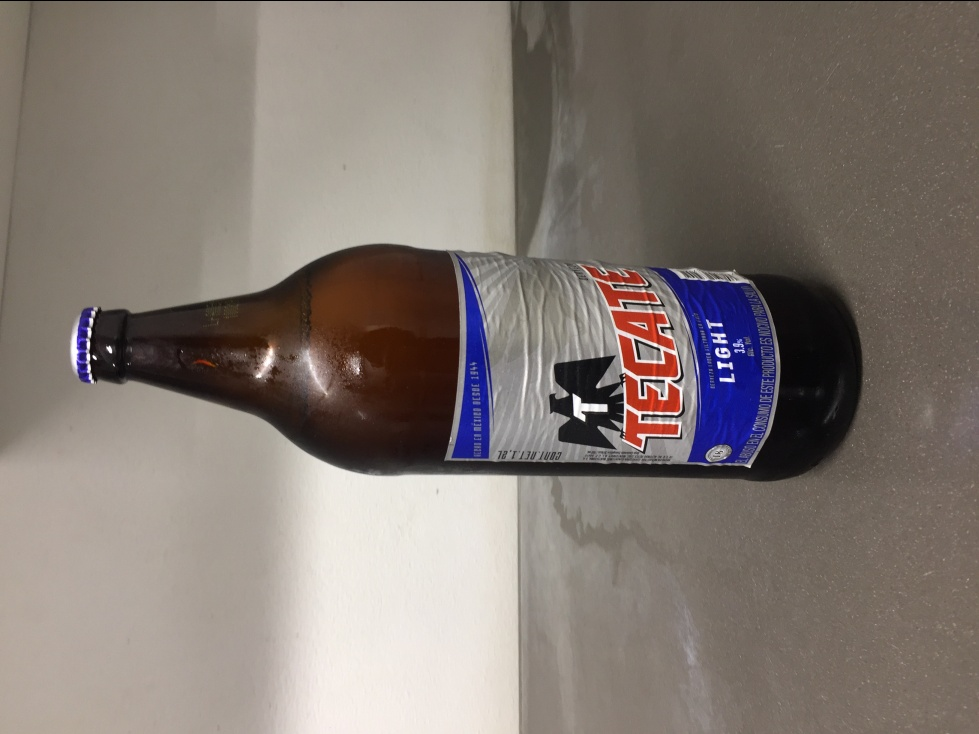tecateC: (69, 244, 863, 475)
